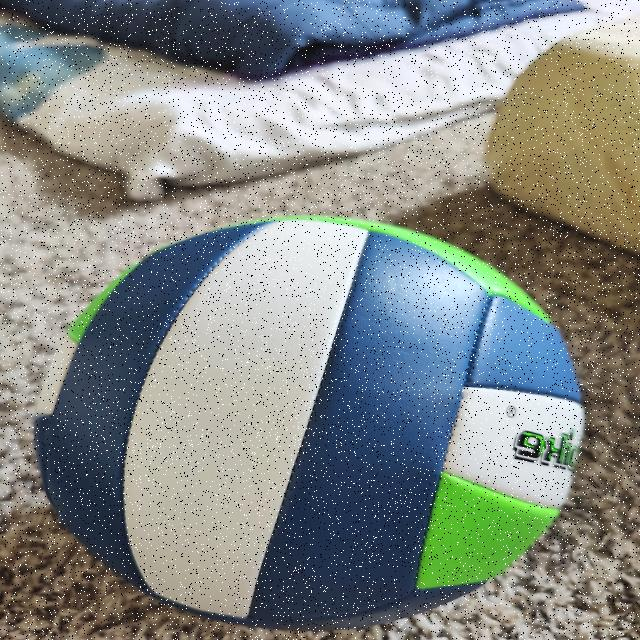ball: (31, 216, 589, 628)
